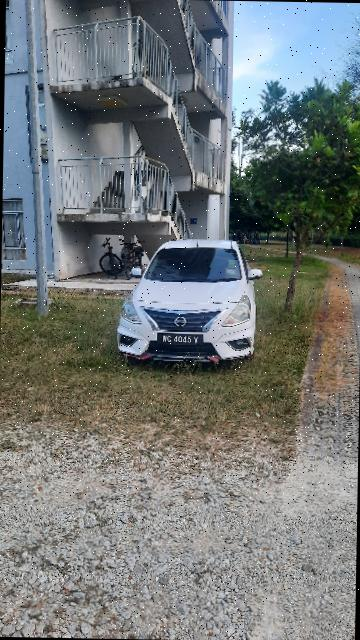License_Plate: (157, 332, 206, 349)
car: (119, 236, 264, 373)
